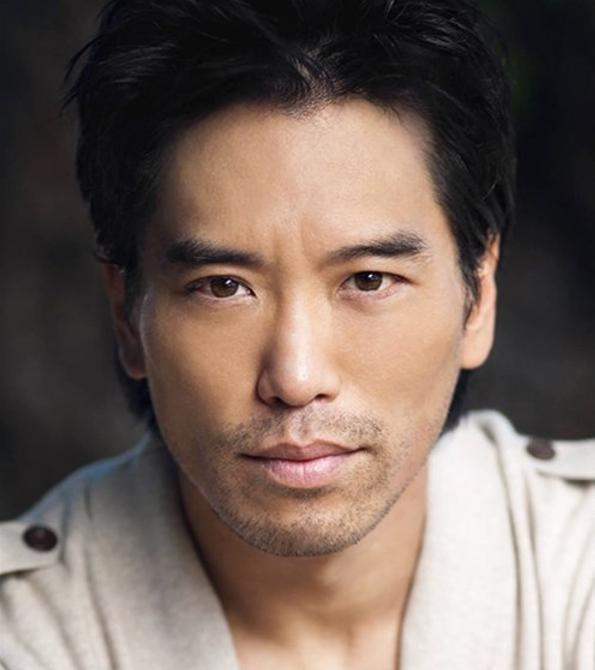Sober: (129, 125, 465, 527)
